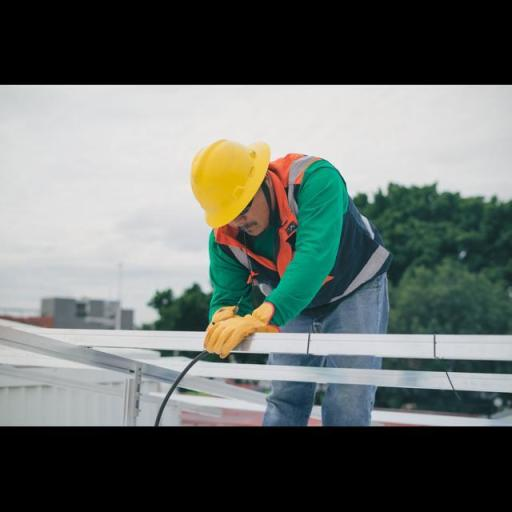Person: (146, 84, 410, 430)
gloves: (191, 294, 291, 357)
helmet: (174, 134, 274, 240)
